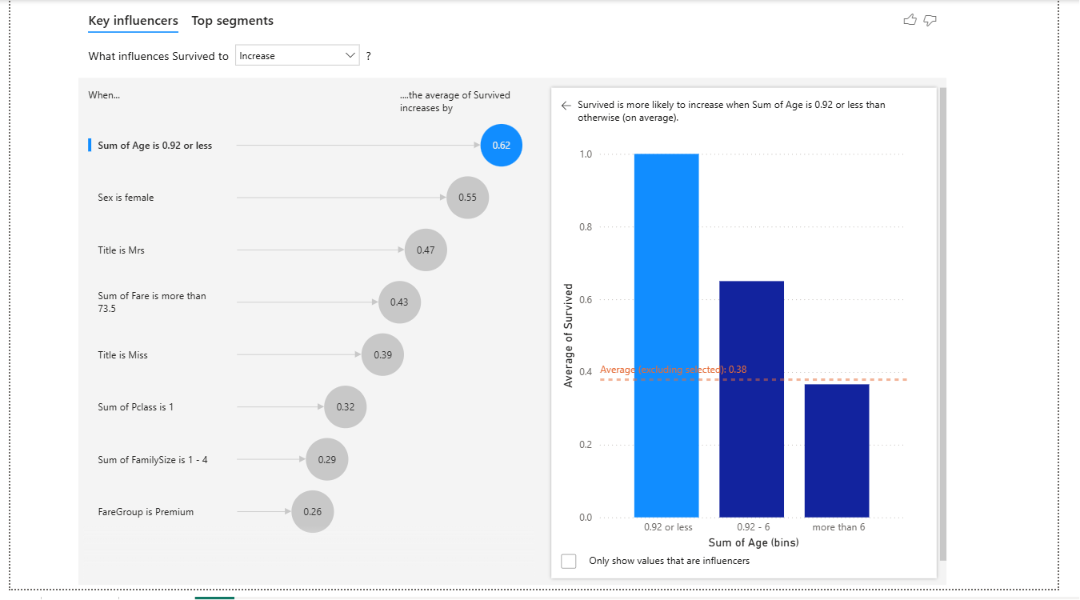

The dashboard page shown, as its layout file describes it:
{"tool":"powerbi","page":{"name":"Page 2","canvas":[1280,720],"ordinal":1},"visuals":[{"type":"keyDriversVisual","fields":{"Target":["featured_titanic.Survived"],"ExplainBy":["featured_titanic.Sex","featured_titanic.AgeGroup","Sum(featured_titanic.Pclass)","featured_titanic.FareGroup","featured_titanic.Embarked","Sum(featured_titanic.FamilySize)","Sum(featured_titanic.IsAlone)","featured_titanic.Title","Sum(featured_titanic.Age)","Sum(featured_titanic.Fare)"]},"box":[78.3,0,1071.2,720.2],"z":0}]}

Visuals, with their boxes in screenshot pixels (x1, y1, x2, y2), scaled from the page's 1280x720 canvas onto the 1080x600 screenshot:
keyDriversVisual - featured_titanic.Survived x featured_titanic.Sex: x1=66 y1=0 x2=970 y2=599
